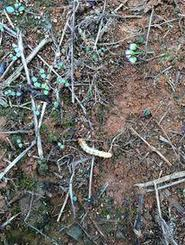grub: (74, 134, 116, 162)
